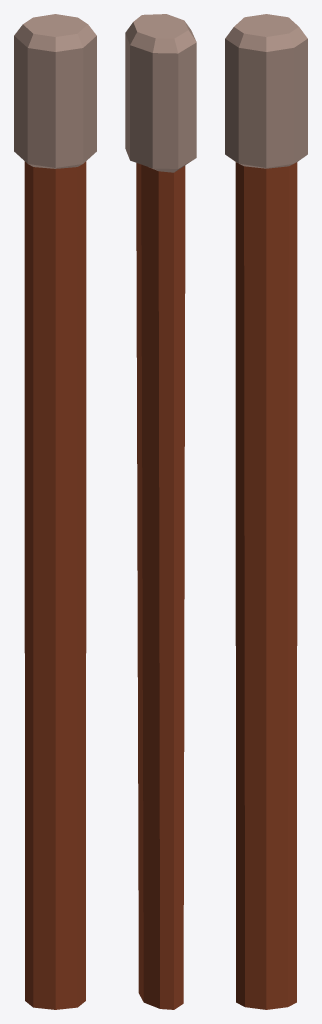
File: tool_base.glb
The picture shows the model from 3 angles, left to right: view 1: azimuth 90°, elevation 25°; view 2: azimuth 210°, elevation 25°; view 3: azimuth 270°, elevation 25°; orthographic projection.
Visible parts, largest first — view 1: tool_base; view 2: tool_base; view 3: tool_base.
Boxes of the visible parts, x1=… form: tool_base: x1=14, y1=14, x2=96, y2=1009; tool_base: x1=125, y1=14, x2=196, y2=1009; tool_base: x1=225, y1=14, x2=307, y2=1009.
Bounding box in the file's own units: 0.2752 × 4.17 × 0.3208.
Materials: 1 (1 with a texture image).
